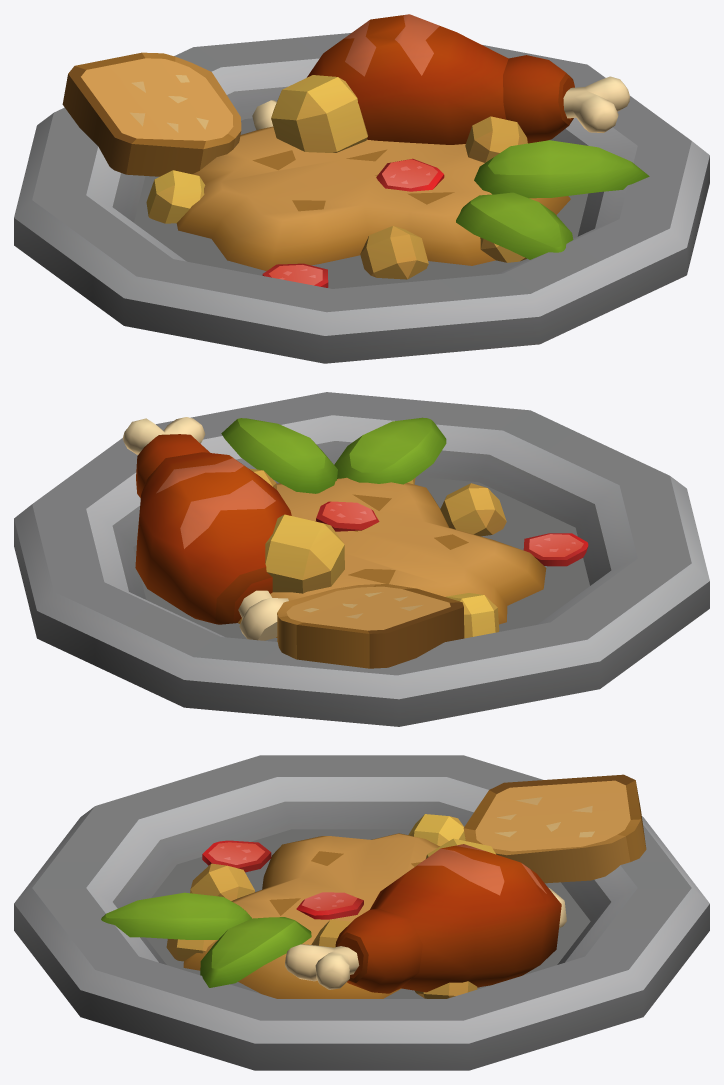
The model's file is Dish_1_A.glb.
The picture shows the model from 3 angles, top to bottom: view 1: azimuth 30°, elevation 25°; view 2: azimuth 150°, elevation 25°; view 3: azimuth 270°, elevation 25°; orthographic projection. The views are drawn at different scales.
Visible parts, largest first — view 1: Dish_1_A; view 2: Dish_1_A; view 3: Dish_1_A.
Part boxes in pixels (x1,y1,x2,y2): Dish_1_A: (14,14,709,363); Dish_1_A: (14,392,709,726); Dish_1_A: (14,755,709,1070).
Size of the model in its own units: 0.8458 by 0.2038 by 0.8893.
Materials: 2 (2 with a texture image).
